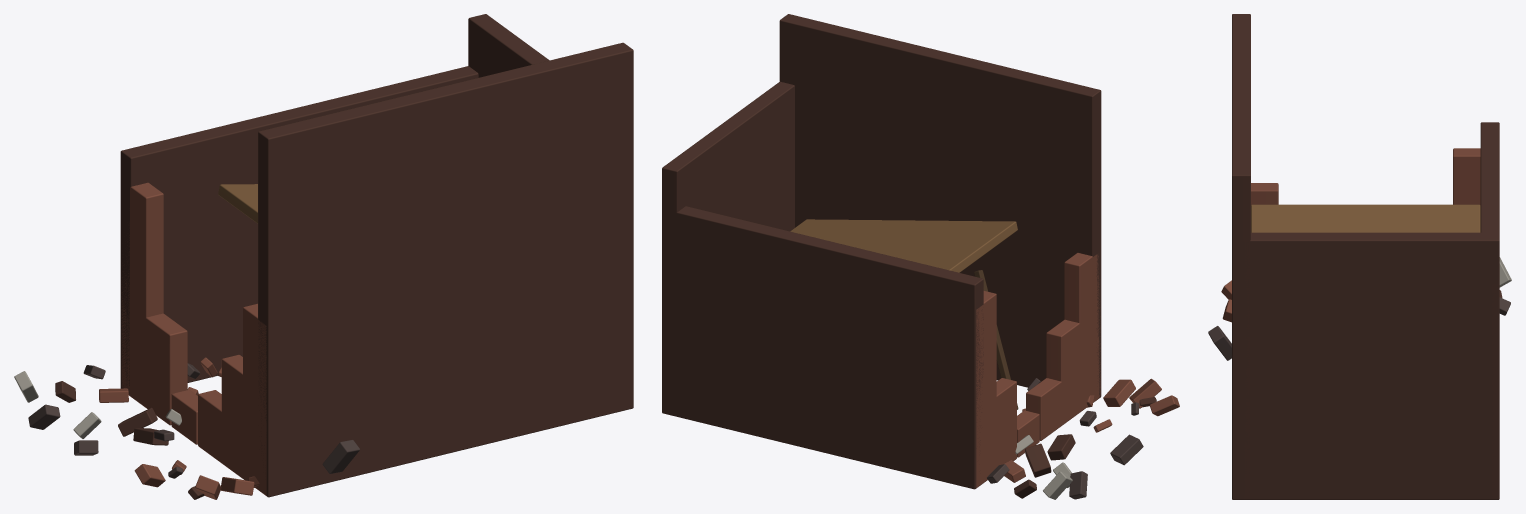
File: ruine.glb
3 views of the same model, side by side, from view 1: azimuth 30°, elevation 25°; view 2: azimuth 150°, elevation 25°; view 3: azimuth 270°, elevation 25° (orthographic). The views are drawn at different scales.
Parts seen in each view (by area): view 1: Ruine; view 2: Ruine; view 3: Ruine.
Boxes of the visible parts, x1,y1,x2,y2 form: Ruine: (14,14,633,499); Ruine: (662,14,1179,499); Ruine: (1208,14,1511,499).
Size of the model in its own units: 10.6 by 7.86 by 6.35.
